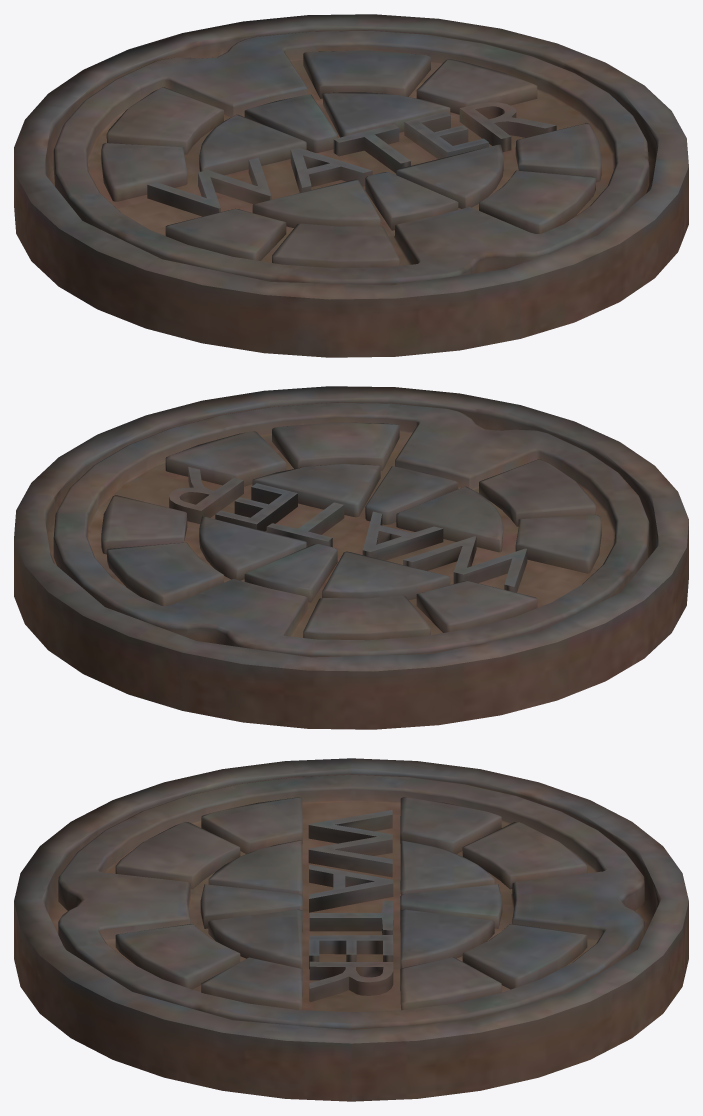
File: water_manhole_cover.glb
3 renders of one model, top to bottom at view 1: azimuth 30°, elevation 25°; view 2: azimuth 150°, elevation 25°; view 3: azimuth 270°, elevation 25°, orthographic.
Visible parts, largest first — view 1: water_manhole_cover, water_manhole_cover_frame; view 2: water_manhole_cover, water_manhole_cover_frame; view 3: water_manhole_cover, water_manhole_cover_frame.
Boxes of the visible parts, box(x1,y1,x2,y2) form: water_manhole_cover: box(53, 30, 649, 285); water_manhole_cover_frame: box(14, 14, 688, 357); water_manhole_cover: box(53, 402, 649, 657); water_manhole_cover_frame: box(14, 386, 688, 729); water_manhole_cover: box(58, 774, 644, 1030); water_manhole_cover_frame: box(14, 758, 688, 1101).
Size of the model in its own units: 0.6908 by 0.0676 by 0.6908.
Materials: 1 (1 with a texture image).
